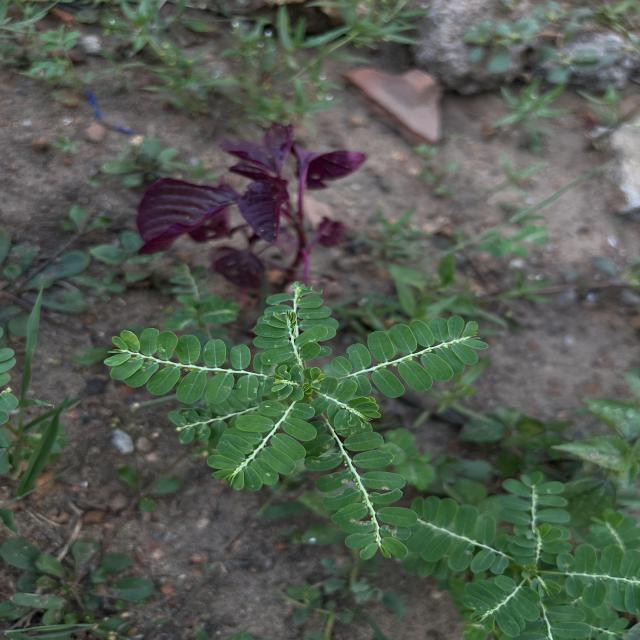Phyllanthus niruri: (304, 411, 418, 562), (316, 313, 490, 399), (101, 323, 270, 404), (204, 397, 318, 495), (250, 279, 338, 373)
